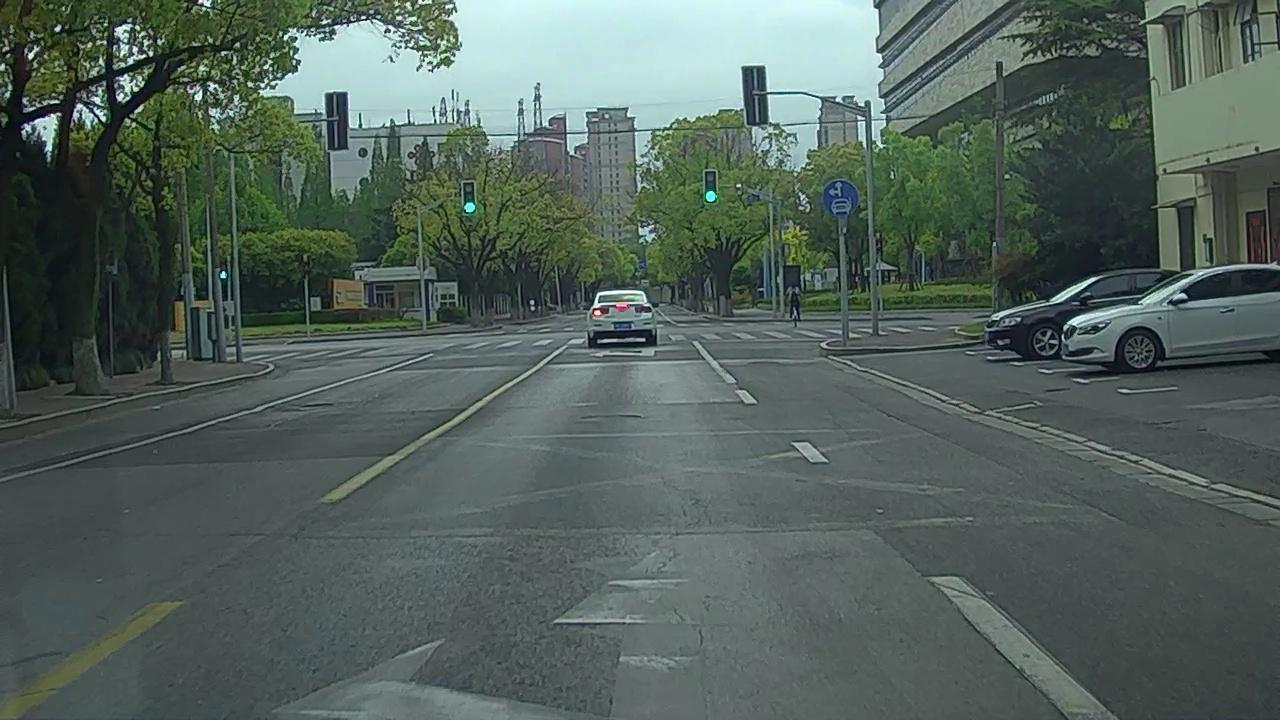traffic_light: (461, 181, 477, 215), (704, 170, 718, 205)
